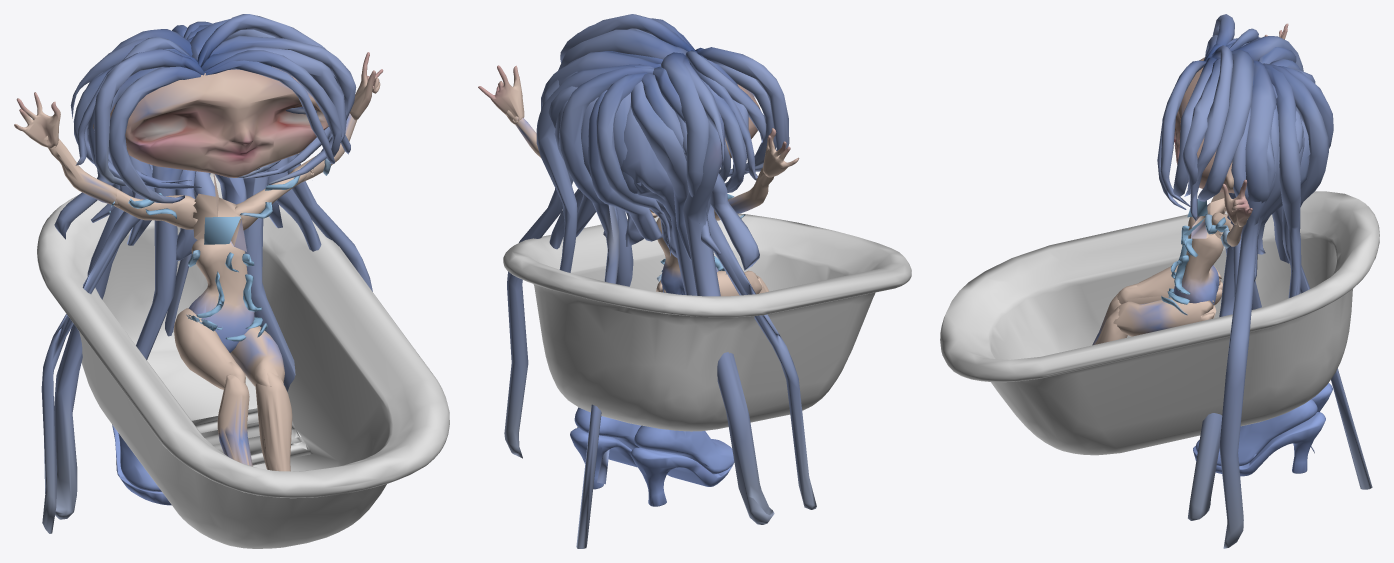
Rendered from sculpture-03.glb.
3 renders of one model, left to right at view 1: azimuth 30°, elevation 25°; view 2: azimuth 150°, elevation 25°; view 3: azimuth 270°, elevation 25°, orthographic. The views are drawn at different scales.
Parts seen in each view (by area): view 1: Tub-White, Tube.001, Sphere, Usagi_Knees, Usagi_Legs, Usagi_Torso, Usagi_Arms, Usagi_ForeArms, Usagi_Feet_A 1, Usagi_Chest, Tube, Usagi_Hands_B 2 (+4 smaller); view 2: Tube.001, Tub-White, Usagi_Feet_A 1, Tube, Usagi_ForeArms, Usagi_Hands_B 1, Usagi_Torso, Usagi_Hands_B 2, Usagi_Legs; view 3: Tub-White, Tube.001, Usagi_Feet_A 1, Usagi_Legs, Tube, Usagi_Torso, Sphere, Usagi_Torso ext, Usagi_Hands_B 1, Usagi_Knees, Usagi_Chest.
Part boxes in pixels (box(x1,y1,x2,y2)): Tub-White: box(37, 173, 449, 548); Tube.001: box(41, 14, 372, 533); Sphere: box(93, 66, 328, 177); Usagi_Knees: box(217, 369, 292, 471); Usagi_Legs: box(174, 308, 284, 389); Usagi_Torso: box(189, 238, 254, 352); Usagi_Arms: box(109, 163, 307, 230); Usagi_ForeArms: box(44, 113, 356, 207); Usagi_Feet_A 1: box(112, 424, 171, 505); Usagi_Chest: box(193, 174, 246, 251); Tube: box(190, 19, 330, 178); Usagi_Hands_B 2: box(14, 92, 60, 148); Tube.001: box(504, 14, 816, 548); Tub-White: box(503, 213, 911, 431); Usagi_Feet_A 1: box(570, 407, 734, 506); Tube: box(558, 29, 687, 70); Usagi_ForeArms: box(505, 110, 773, 213); Usagi_Hands_B 1: box(478, 65, 524, 124); Usagi_Torso: box(656, 217, 718, 294); Usagi_Hands_B 2: box(763, 128, 799, 177); Usagi_Legs: box(656, 270, 762, 296); Tub-White: box(940, 191, 1379, 455); Tube.001: box(1157, 14, 1372, 548); Usagi_Feet_A 1: box(1193, 383, 1332, 476); Usagi_Legs: box(1113, 264, 1222, 336); Tube: box(1198, 49, 1253, 201); Usagi_Torso: box(1173, 217, 1223, 304); Sphere: box(1174, 57, 1234, 193); Usagi_Torso ext: box(1167, 225, 1197, 304); Usagi_Hands_B 1: box(1222, 179, 1252, 226); Usagi_Knees: box(1092, 291, 1127, 345); Usagi_Chest: box(1191, 192, 1225, 238).
Bounding box in the file's own units: 16.08 × 21.76 × 19.46.
